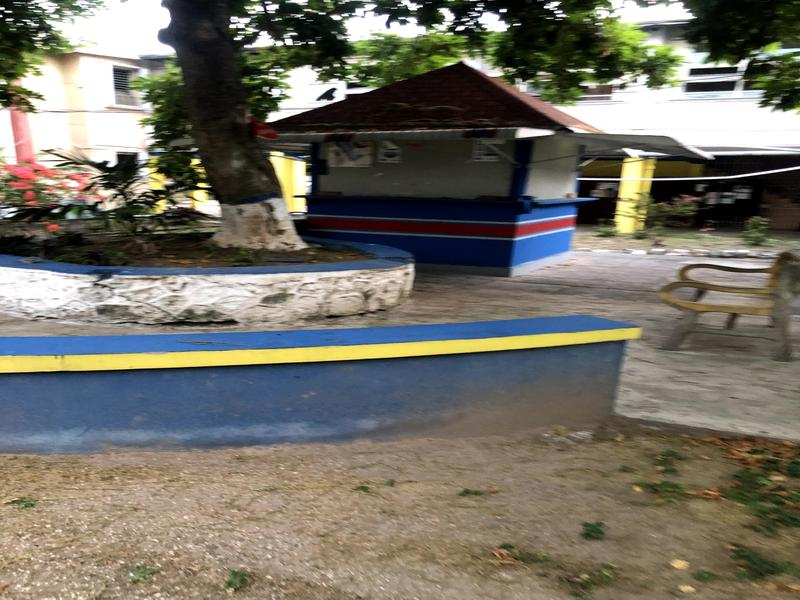18.0050609_-76.7496662_auntyjackie: (250, 49, 602, 286)
